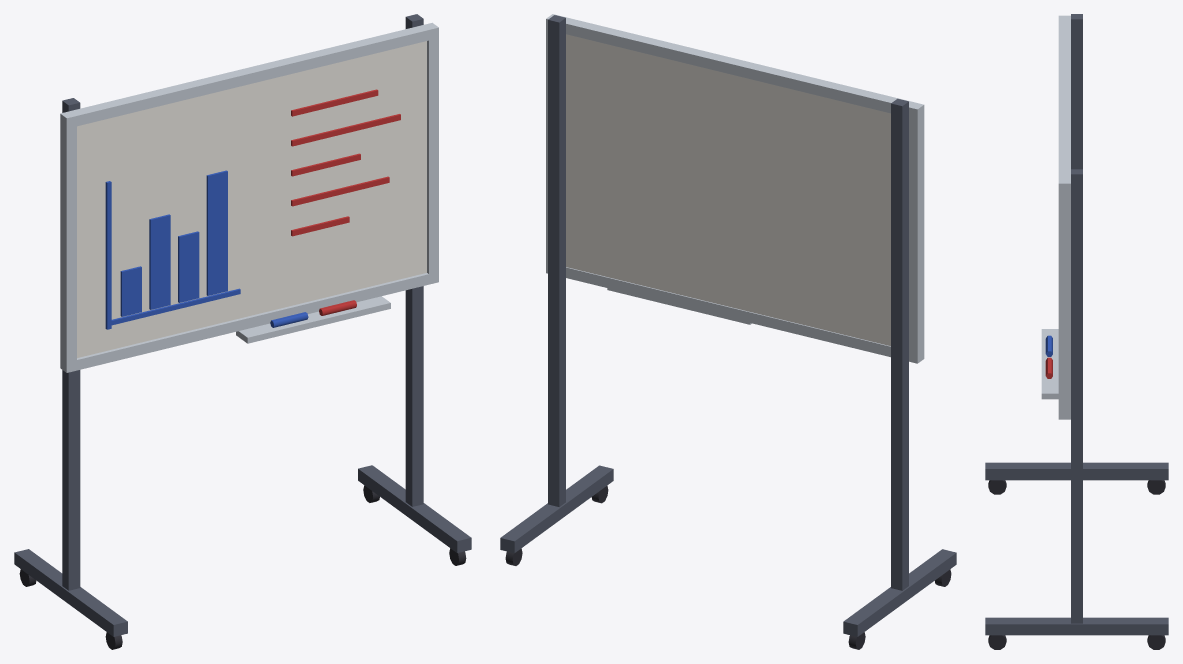
The model's file is whiteboard.glb.
The picture shows the model from 3 angles, left to right: view 1: azimuth 30°, elevation 25°; view 2: azimuth 150°, elevation 25°; view 3: azimuth 270°, elevation 25°; orthographic projection. The views are drawn at different scales.
Parts seen in each view (by area): view 1: Whiteboard, Board frame, Board stand, Blue marker lines, Red marker lines, Marker tray, Board casters, Markers; view 2: Whiteboard, Board stand, Board frame, Board casters; view 3: Board stand, Board frame, Marker tray, Board casters, Markers.
Part boxes in pixels (x1,y1,x2,y2): Whiteboard: (77,41,426,357); Board frame: (60,22,438,372); Board stand: (14,14,471,636); Blue marker lines: (105,170,240,329); Red marker lines: (291,89,400,236); Marker tray: (236,296,390,343); Board casters: (19,485,466,649); Markers: (270,300,356,327); Whiteboard: (566,34,890,345); Board stand: (500,15,956,636); Board frame: (546,14,924,363); Board casters: (505,485,951,649); Board stand: (985,14,1168,635); Board frame: (1058,15,1070,419); Marker tray: (1041,329,1058,399); Board casters: (988,480,1165,649); Markers: (1045,335,1052,378).
Bounding box in the file's own units: 1.3 × 1.72 × 0.6.
